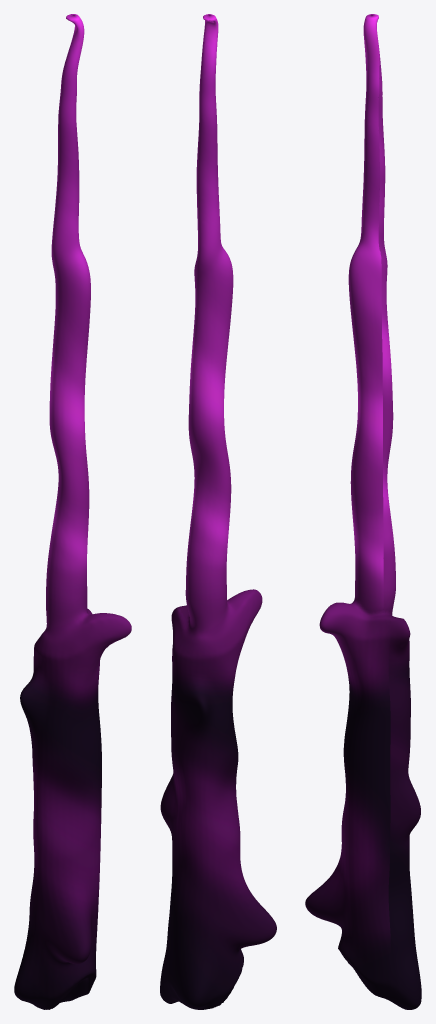
Rendered from VaritaMorada.fbx.
3 views of the same model, side by side, from view 1: azimuth 90°, elevation 25°; view 2: azimuth 150°, elevation 25°; view 3: azimuth 330°, elevation 25° (orthographic).
Parts seen in each view (by area): view 1: Cylinder.002; view 2: Cylinder.002; view 3: Cylinder.002.
Boxes of the visible parts, x1=… form: Cylinder.002: x1=14, y1=14, x2=131, y2=1009; Cylinder.002: x1=160, y1=14, x2=276, y2=1009; Cylinder.002: x1=305, y1=14, x2=421, y2=1009.
Bounding box in the file's own units: 11.51 × 103 × 10.97.
